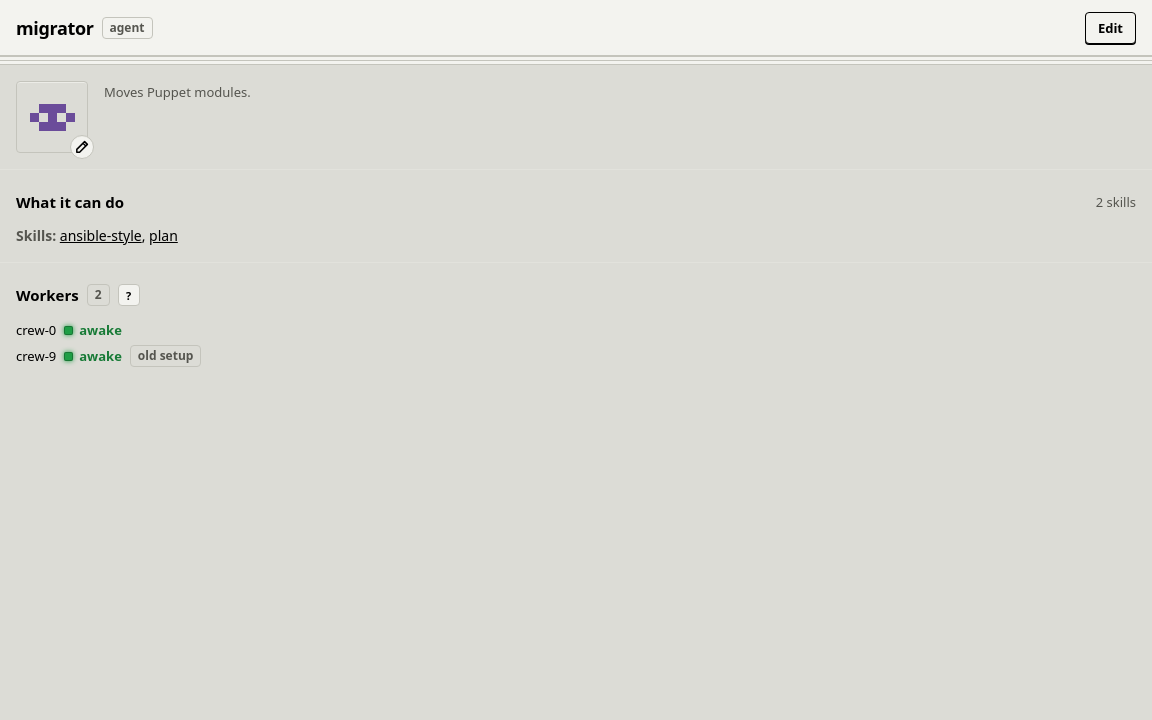
it: the profile › opens Edit with the name and the tagline that the profile shows, in focus, and Escape gives the focus back to Edit
The width and height of the screenshot is (1152, 720).
Click the button "Edit" at [1110, 28], box [1085,12,1136,44]
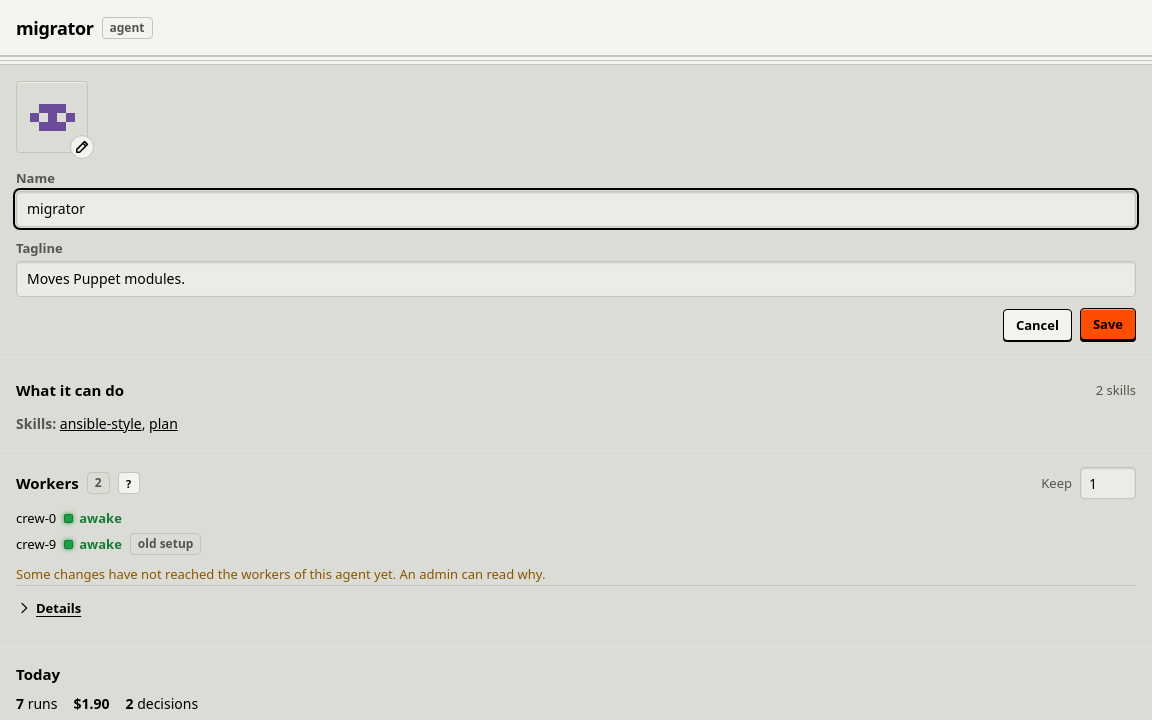
Now the field labelled "Name" holds "migrator"
Now the field labelled "Tagline" holds "Moves Puppet modules.", box [16,261,1136,297]
Press Escape in the field labelled "Name", box [16,191,1136,227]
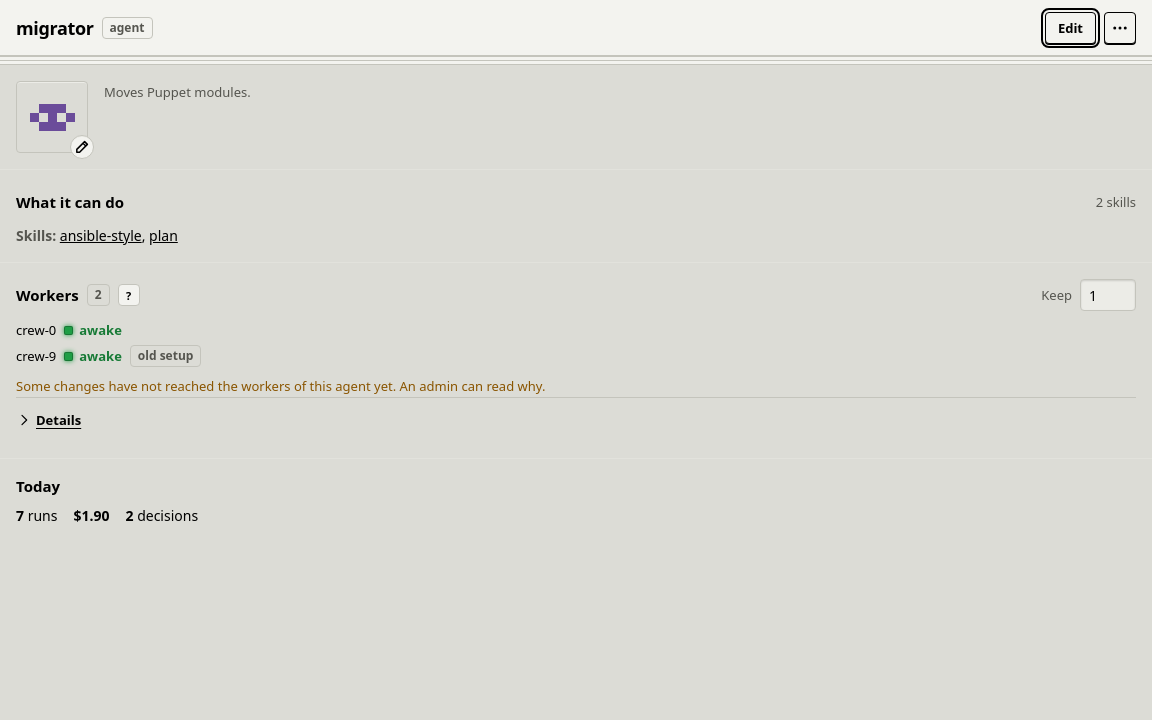
Now the form is gone
